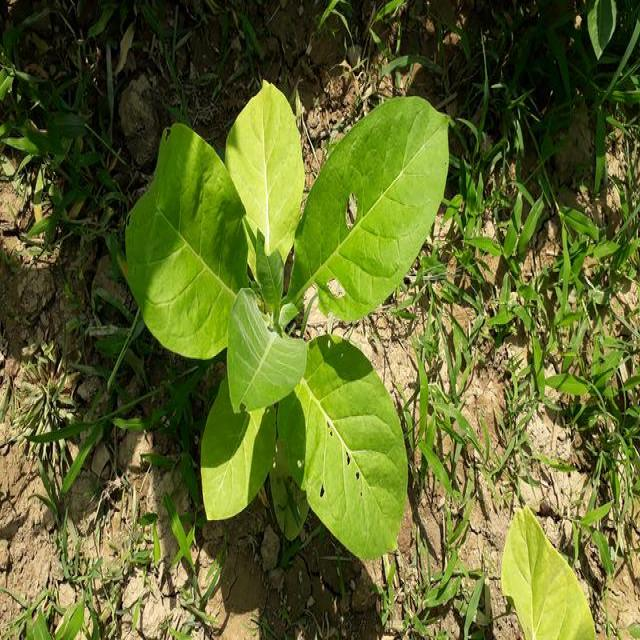crop: (120, 91, 450, 567), (502, 505, 597, 640)
